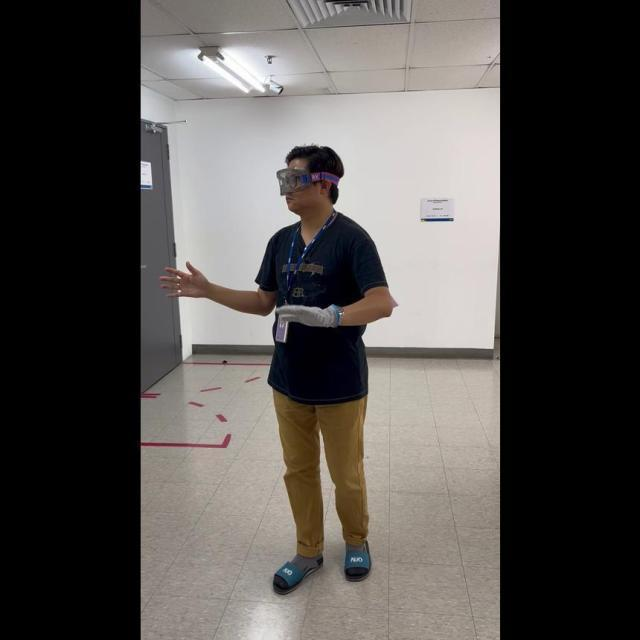bare_hand: (158, 256, 211, 299)
gloved_hand: (277, 298, 342, 329)
